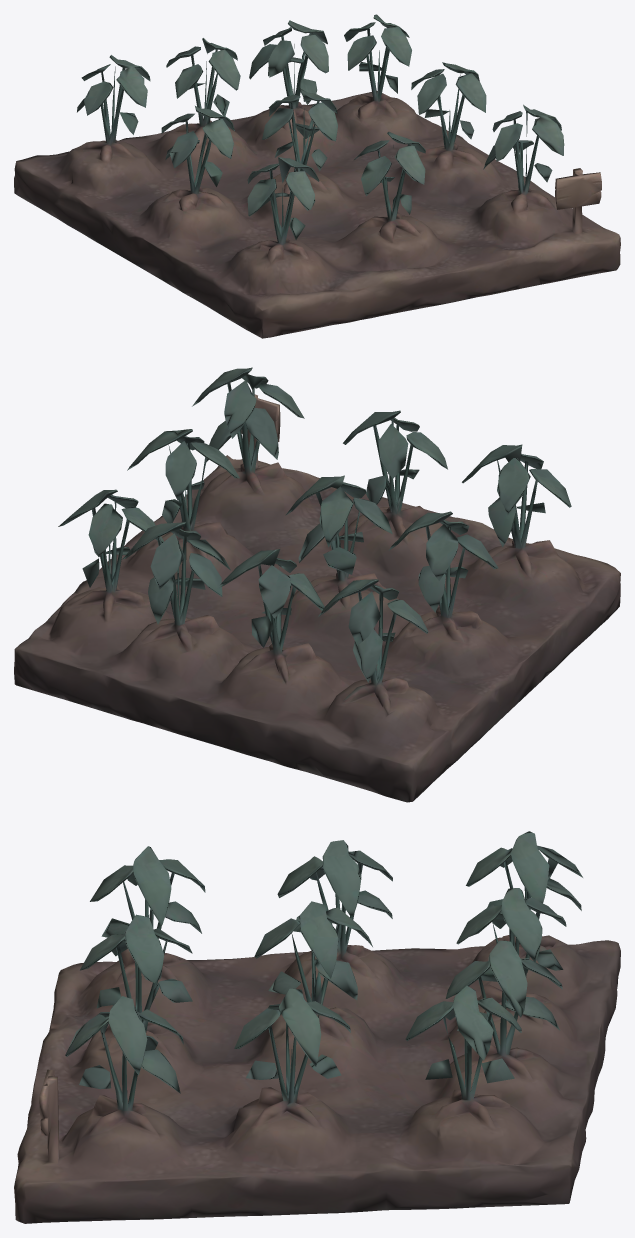
Rendered from farm_yam_mounds.glb.
3 renders of one model, top to bottom at view 1: azimuth 30°, elevation 25°; view 2: azimuth 150°, elevation 25°; view 3: azimuth 270°, elevation 25°, orthographic. The views are drawn at different scales.
Parts seen in each view (by area): view 1: tripo_node_b72968d4-cca6-4f6d-82ab-0d8d4aee6f22; view 2: tripo_node_b72968d4-cca6-4f6d-82ab-0d8d4aee6f22; view 3: tripo_node_b72968d4-cca6-4f6d-82ab-0d8d4aee6f22.
Boxes of the visible parts, <box> form: tripo_node_b72968d4-cca6-4f6d-82ab-0d8d4aee6f22: <box>14,14,620,338</box>; tripo_node_b72968d4-cca6-4f6d-82ab-0d8d4aee6f22: <box>14,367,620,802</box>; tripo_node_b72968d4-cca6-4f6d-82ab-0d8d4aee6f22: <box>14,831,620,1223</box>.
Size of the model in its own units: 0.9515 by 0.3488 by 1.
1 material, 1 textured.
